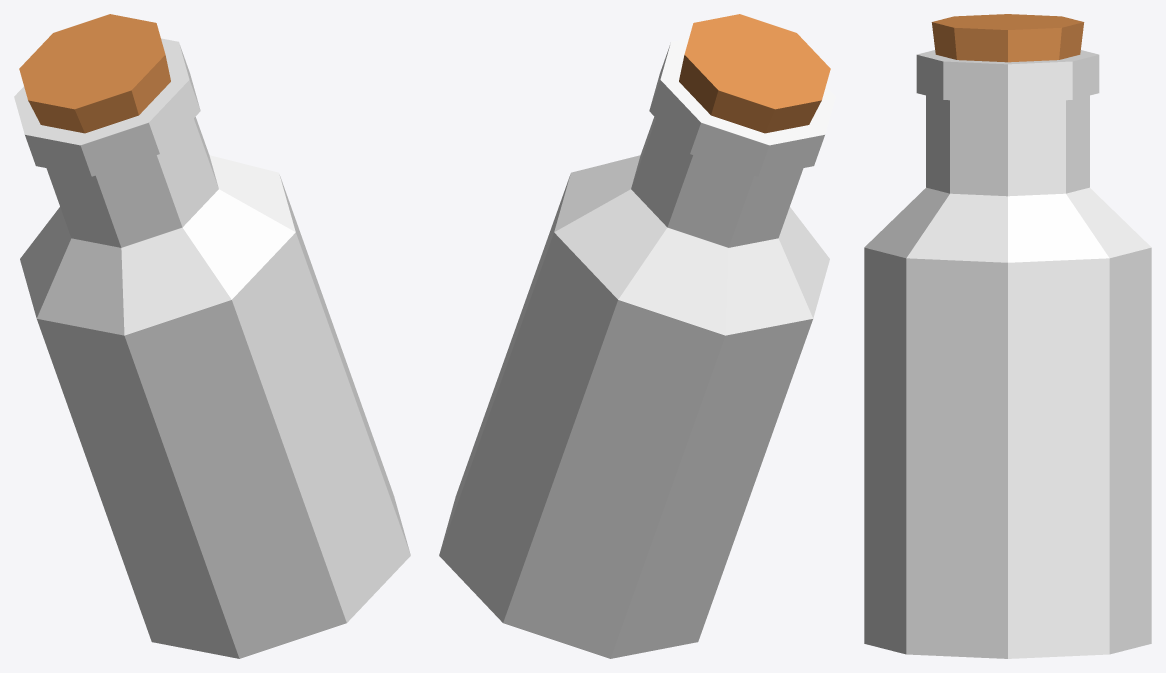
The model's file is Milk Bottle.fbx.
The picture shows the model from 3 angles, left to right: view 1: azimuth 30°, elevation 25°; view 2: azimuth 150°, elevation 25°; view 3: azimuth 270°, elevation 25°; orthographic projection. The views are drawn at different scales.
Parts seen in each view (by area): view 1: Cylinder, Cylinder.001; view 2: Cylinder, Cylinder.001; view 3: Cylinder, Cylinder.001.
Boxes of the visible parts, x1,y1,x2,y2 form: Cylinder: [14, 38, 410, 658]; Cylinder.001: [19, 14, 170, 133]; Cylinder: [439, 38, 835, 658]; Cylinder.001: [679, 14, 830, 133]; Cylinder: [864, 50, 1151, 658]; Cylinder.001: [931, 14, 1084, 62].
Bounding box in the file's own units: 288 × 461 × 200.
